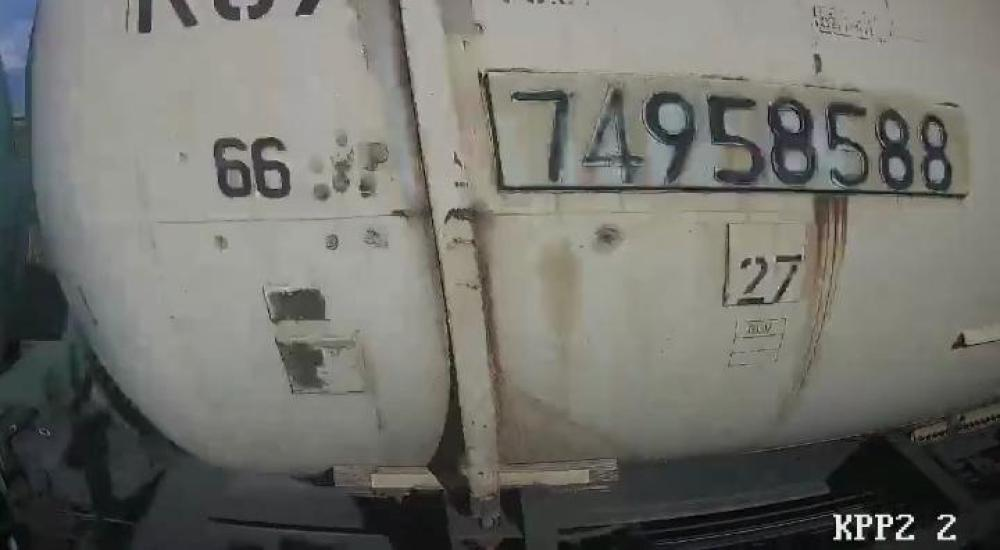Wagon-number: (498, 73, 956, 199)
